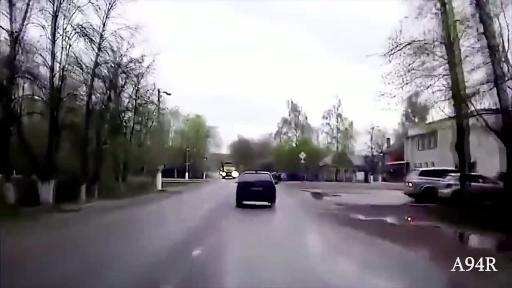CAR: (444, 170, 506, 208), (235, 169, 276, 208), (404, 167, 445, 197)
Truck: (197, 154, 245, 184)
